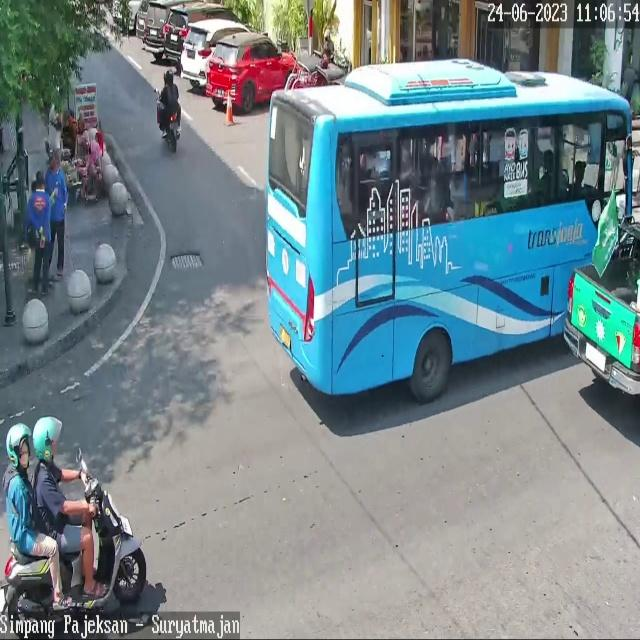bus: (0, 474, 146, 640), (164, 108, 182, 154)
car: (264, 57, 632, 405)
motorcycle: (564, 243, 640, 393), (206, 33, 300, 112), (163, 4, 246, 64), (181, 21, 252, 87), (143, 0, 169, 53)
